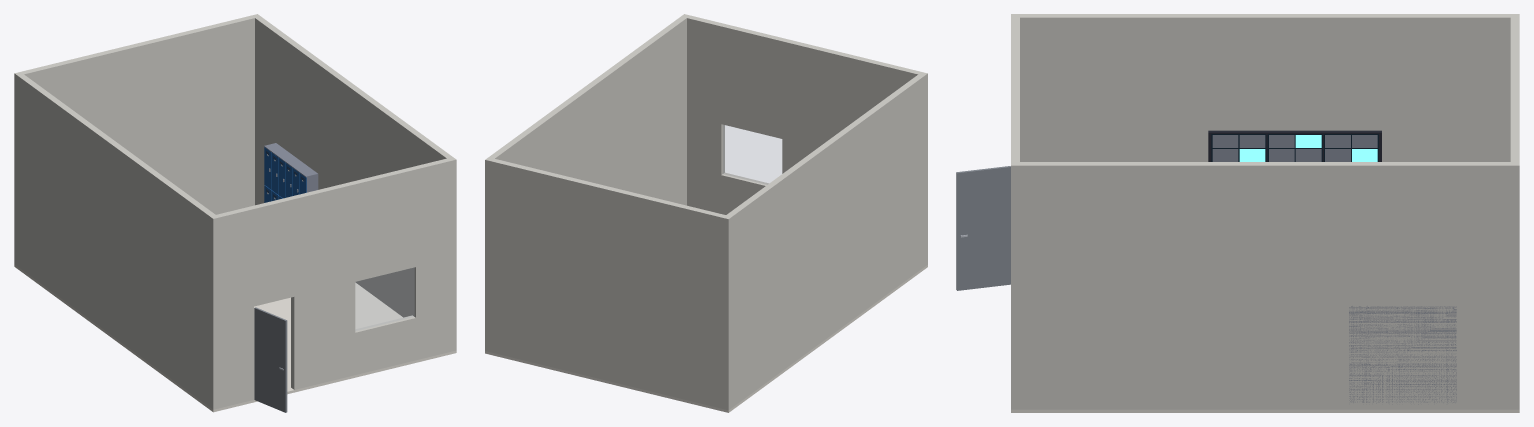
The model's file is mal-024.glb.
The picture shows the model from 3 angles, left to right: view 1: azimuth 30°, elevation 25°; view 2: azimuth 150°, elevation 25°; view 3: azimuth 270°, elevation 25°; orthographic projection. The views are drawn at different scales.
Visible parts, largest first — view 1: mall_wall, mall_floor, service_door, glass_clear, locker_blue, locker_grey; view 2: mall_wall, glass_clear, mall_floor; view 3: mall_wall, locker_grey, service_door, mall_floor, pump_screen, plastic_dark, monitor_screen.
Part boxes in pixels (bbox=[...]): mall_wall: bbox=[14, 14, 456, 409]; mall_floor: bbox=[14, 264, 456, 412]; service_door: bbox=[254, 307, 287, 412]; glass_clear: bbox=[356, 268, 413, 330]; locker_blue: bbox=[264, 147, 306, 202]; locker_grey: bbox=[264, 143, 318, 192]; mall_wall: bbox=[485, 14, 927, 410]; glass_clear: bbox=[723, 125, 781, 184]; mall_floor: bbox=[485, 265, 927, 412]; mall_wall: bbox=[1011, 14, 1519, 409]; locker_grey: bbox=[1212, 135, 1456, 404]; service_door: bbox=[956, 166, 1010, 290]; mall_floor: bbox=[1011, 409, 1519, 412]; pump_screen: bbox=[1239, 135, 1377, 161]; plastic_dark: bbox=[1208, 130, 1381, 161]; monitor_screen: bbox=[1211, 134, 1378, 161].
Size of the model in its own units: 6 by 4.56 by 9.41.
